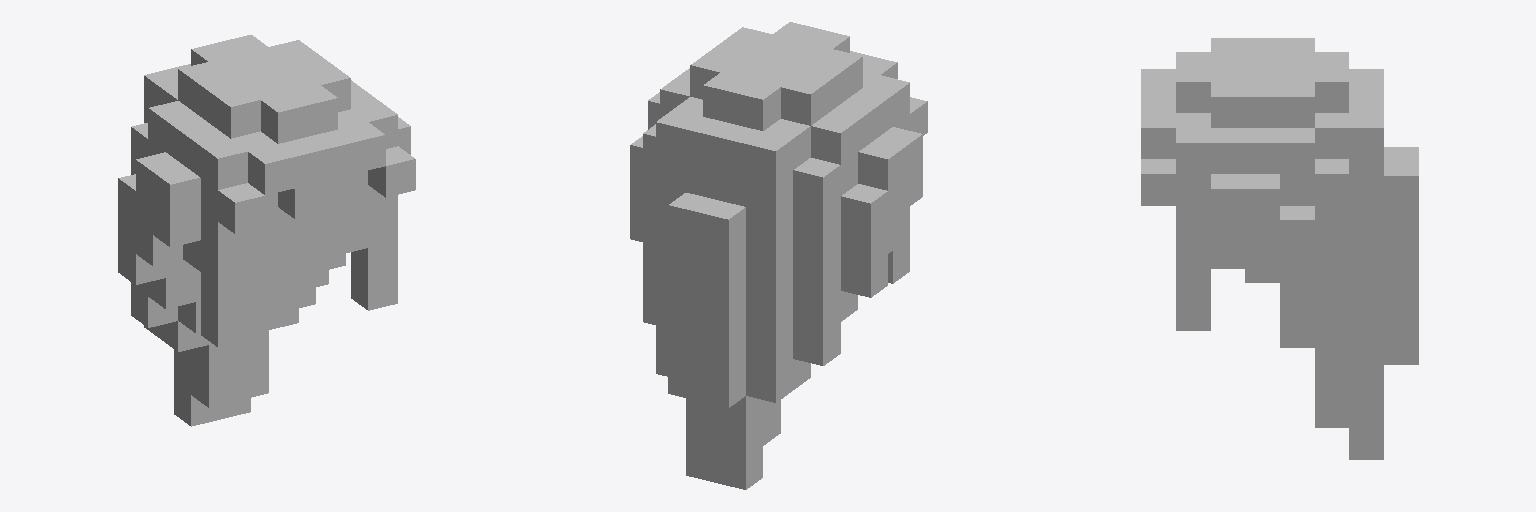
Rendered from Head 4.obj.
The picture shows the model from 3 angles: view 1: azimuth 30°, elevation 25°; view 2: azimuth 150°, elevation 25°; view 3: azimuth 270°, elevation 25°; orthographic projection.
Size of the model in its own units: 8 by 12 by 8.